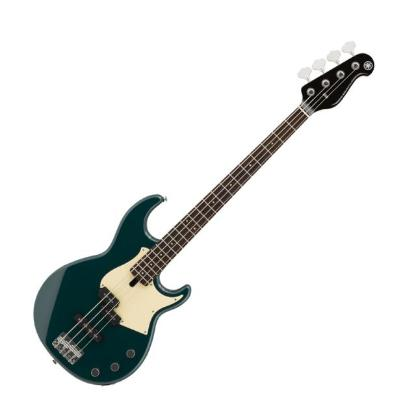bass: (33, 39, 375, 386)
